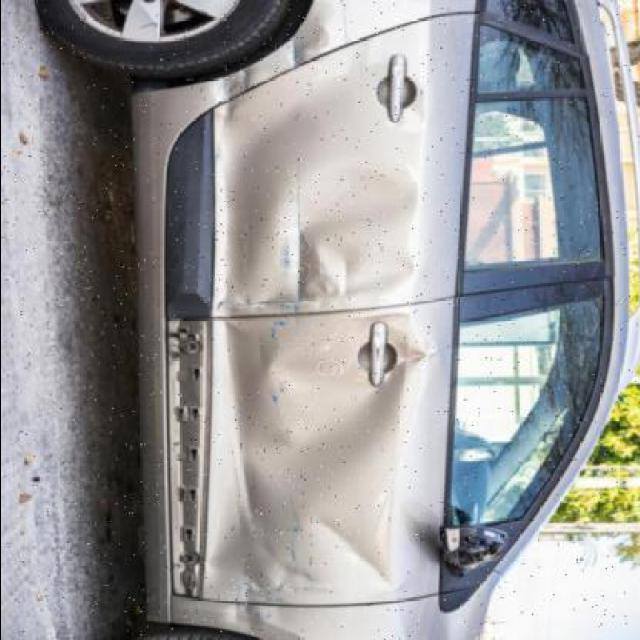doorouter-dent: (203, 316, 452, 596), (208, 80, 462, 310)
quaterpanel-dent: (143, 0, 334, 60)
